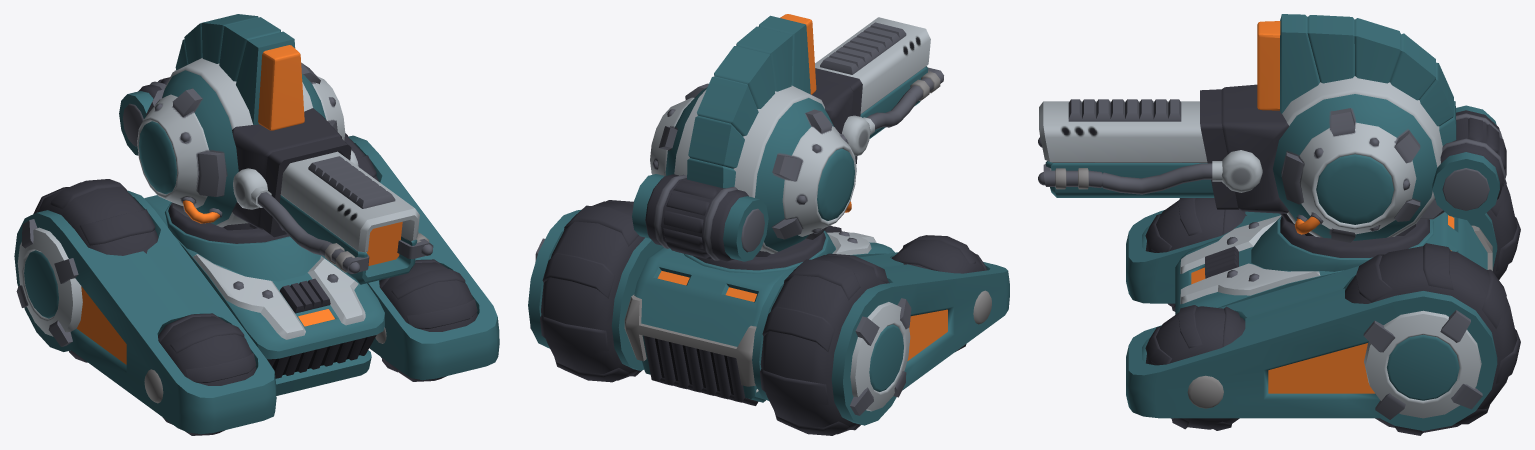
The model's file is TA_Scout_04.fbx.
3 renders of one model, left to right at view 1: azimuth 30°, elevation 25°; view 2: azimuth 150°, elevation 25°; view 3: azimuth 270°, elevation 25°, orthographic. The views are drawn at different scales.
Parts seen in each view (by area): view 1: TA_Scout_04_Wheel_Armor, TA_Scout_04_Turret_Armor, TA_Scout_04_Cannon, TA_Scout_04_Body, TA_Scout_04_Wheel_Wheel_R2, TA_Scout_04_Wheel_Wheel_R1, TA_Scout_04_Wheel_Wheel_L1; view 2: TA_Scout_04_Turret_Armor, TA_Scout_04_Wheel_Armor, TA_Scout_04_Body, TA_Scout_04_Wheel_Wheel_R2, TA_Scout_04_Wheel_Wheel_L2, TA_Scout_04_Cannon, TA_Scout_04_Wheel_Wheel_R1; view 3: TA_Scout_04_Turret_Armor, TA_Scout_04_Wheel_Armor, TA_Scout_04_Cannon, TA_Scout_04_Body, TA_Scout_04_Wheel_Wheel_L2, TA_Scout_04_Wheel_Wheel_L1, TA_Scout_04_Wheel_Wheel_R1, TA_Scout_04_Wheel_Wheel_R2.
Boxes of the visible parts, x1,y1,x2,y2 form: TA_Scout_04_Wheel_Armor: [14, 135, 499, 434]; TA_Scout_04_Turret_Armor: [119, 14, 345, 243]; TA_Scout_04_Cannon: [232, 108, 433, 284]; TA_Scout_04_Body: [144, 195, 384, 395]; TA_Scout_04_Wheel_Wheel_R2: [33, 179, 158, 362]; TA_Scout_04_Wheel_Wheel_R1: [158, 313, 256, 435]; TA_Scout_04_Wheel_Wheel_L1: [379, 259, 477, 381]; TA_Scout_04_Turret_Armor: [632, 14, 856, 270]; TA_Scout_04_Wheel_Armor: [528, 209, 1009, 425]; TA_Scout_04_Body: [624, 225, 894, 405]; TA_Scout_04_Wheel_Wheel_R2: [759, 253, 889, 435]; TA_Scout_04_Wheel_Wheel_L2: [540, 200, 644, 382]; TA_Scout_04_Cannon: [812, 17, 943, 164]; TA_Scout_04_Wheel_Wheel_R1: [891, 235, 986, 351]; TA_Scout_04_Turret_Armor: [1257, 14, 1506, 257]; TA_Scout_04_Wheel_Armor: [1126, 210, 1497, 430]; TA_Scout_04_Cannon: [1038, 84, 1289, 213]; TA_Scout_04_Body: [1175, 212, 1492, 314]; TA_Scout_04_Wheel_Wheel_L2: [1345, 243, 1520, 435]; TA_Scout_04_Wheel_Wheel_L1: [1145, 305, 1245, 430]; TA_Scout_04_Wheel_Wheel_R1: [1145, 198, 1246, 311]; TA_Scout_04_Wheel_Wheel_R2: [1487, 179, 1520, 279].
Size of the model in its own units: 234 by 222 by 279.
